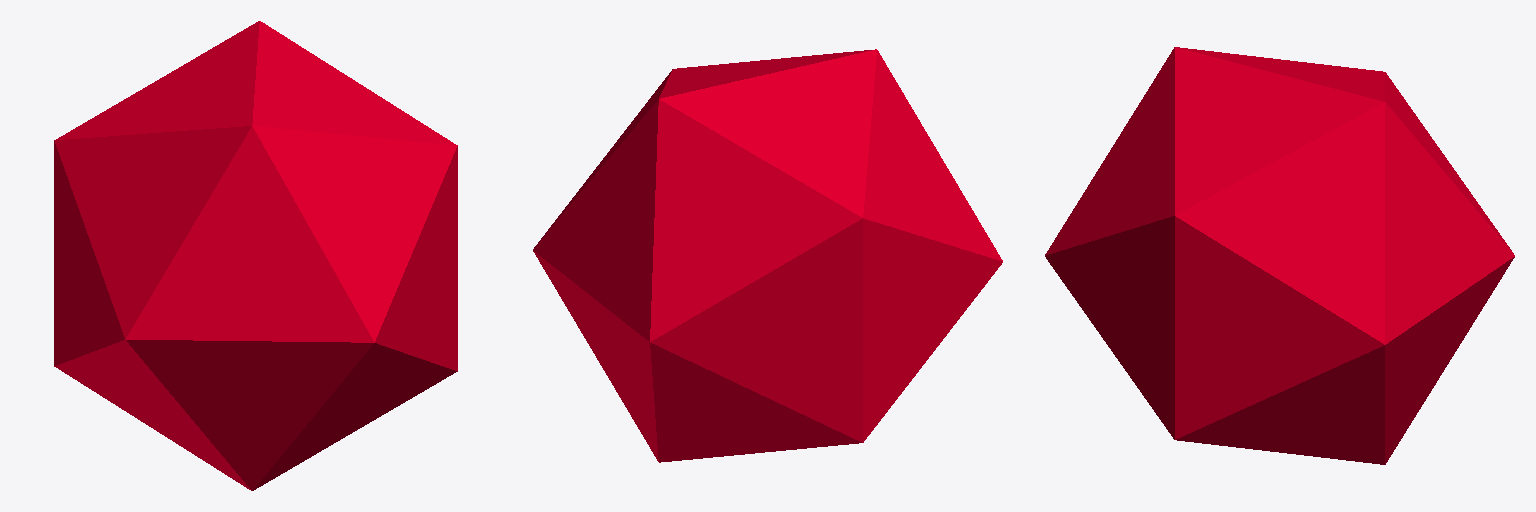
URDF robot description (icosahedron.urdf):
<?xml version="1.0" ?>
<robot name="icosahedron.urdf">

  <link name="icosahedron">
    <contact>
    	<friction_anchor/>
    	   <lateral_friction value="1.0"/>
    </contact>
    <inertial>
      <origin rpy="0 0 0" xyz="0 0 0"/>
       <mass value=".1"/>
       <inertia ixx="1" ixy="0" ixz="0" iyy="1" iyz="0" izz="1"/>
    </inertial>
    <visual>
      <origin rpy="0 0 0" xyz="0 0 0"/>
      <geometry>
				<mesh filename="icosahedron.obj" scale="1.0 1.0 1.0"/>
      </geometry>
       <material name="red">
        <color rgba="0.9 0 0.2 1.0"/>
      </material>
    </visual>
    <collision>
      <origin rpy="0 0 0" xyz="0 0 0"/>
      <geometry>
				<mesh filename="icosahedron.obj" scale="1.0 1.0 1.0"/>
      </geometry>
    </collision>
  </link>


</robot>

--- Facts derived from the render (not from the file) ---
3 views of the same robot in one strip: view 1: azimuth 30°, elevation 25°; view 2: azimuth 150°, elevation 25°; view 3: azimuth 270°, elevation 25° (orthographic).
Model icosahedron.urdf with 1 links and 0 joints (none), rooted at icosahedron, posed every joint at zero.
Links seen in each view (by area): view 1: icosahedron; view 2: icosahedron; view 3: icosahedron.
Link boxes in pixels (x1,y1,x2,y2): icosahedron: (54, 21, 457, 490); icosahedron: (533, 49, 1002, 462); icosahedron: (1045, 47, 1514, 464).
Bounding box of the posed robot: 0.1252 × 0.14 × 0.1191 m (x, y, z).
1 mesh visuals loaded from 1 distinct referenced files (1 OBJ).